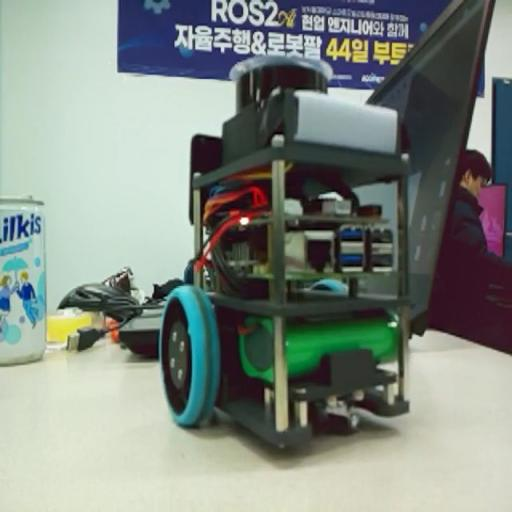pinky_63: (156, 50, 416, 451)
